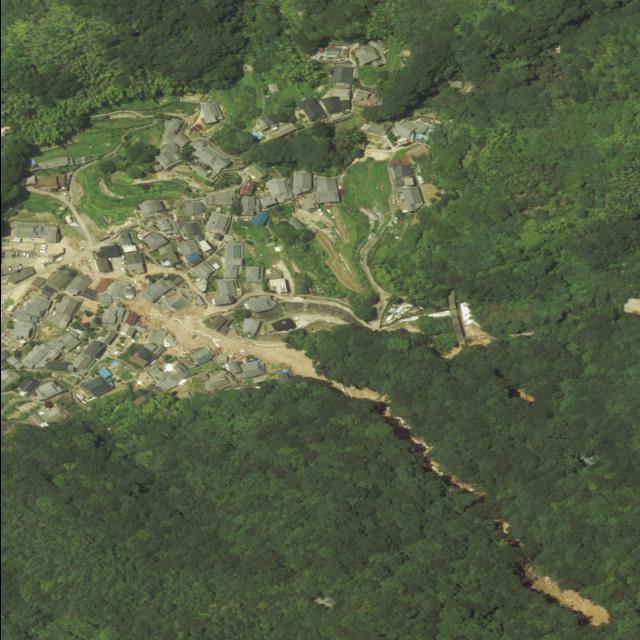landslide: (162, 311, 484, 497), (523, 561, 609, 627)
